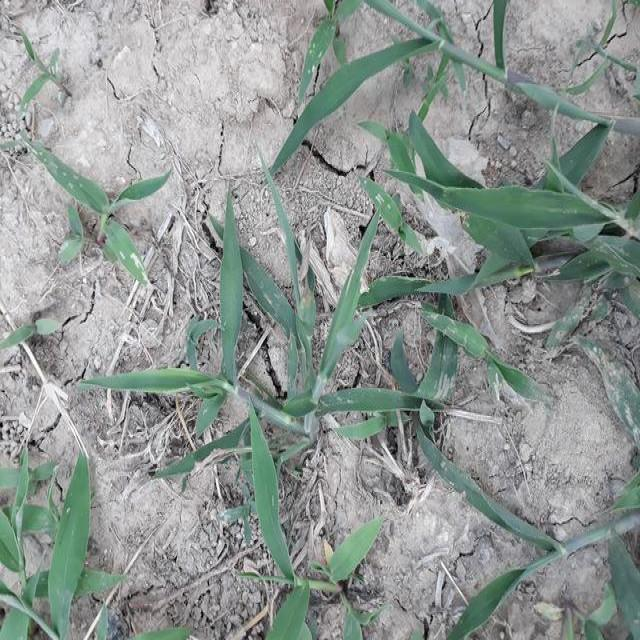weed: (112, 219, 402, 453), (430, 473, 640, 640), (378, 146, 634, 252), (3, 455, 108, 633), (43, 150, 172, 243)
